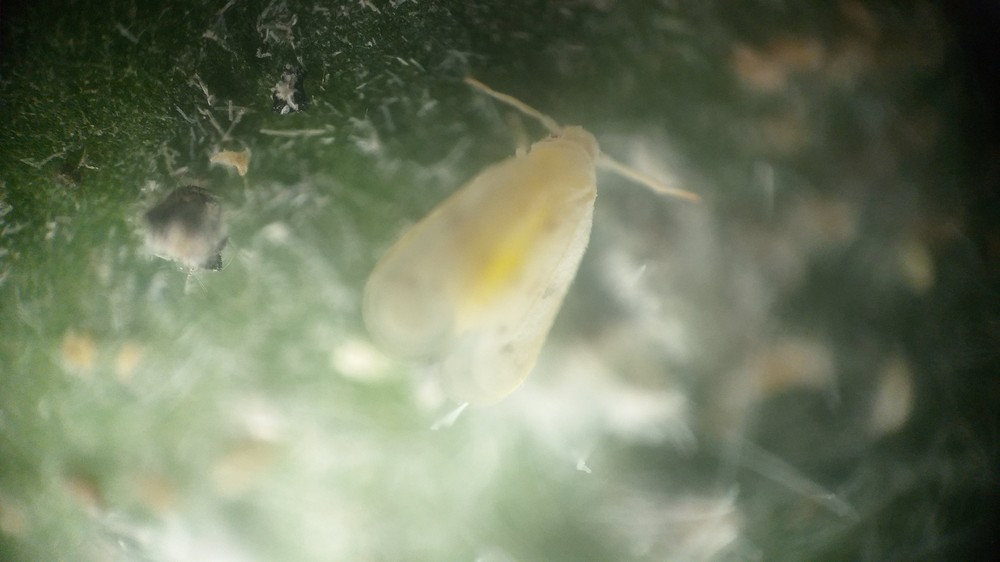Mosca Blanca: (334, 70, 712, 432)
